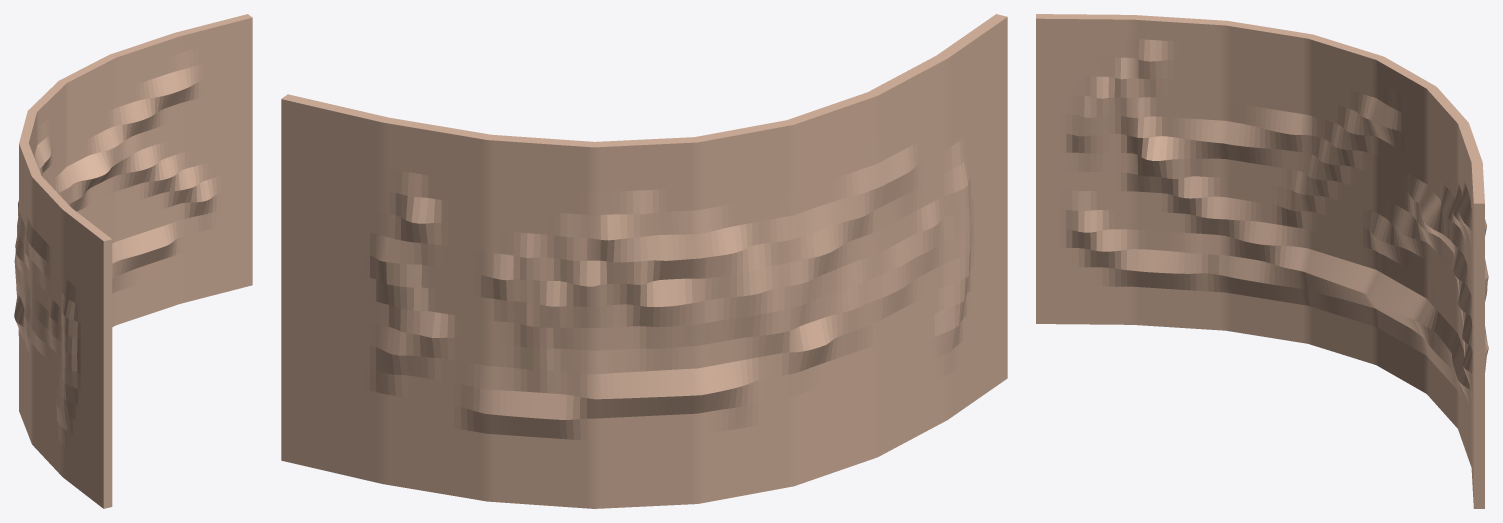
File: structure_wallcurved.fbx
3 renders of one model, left to right at view 1: azimuth 30°, elevation 25°; view 2: azimuth 150°, elevation 25°; view 3: azimuth 270°, elevation 25°, orthographic. The views are drawn at different scales.
Parts seen in each view (by area): view 1: wallcurved_wall_LOD0; view 2: wallcurved_wall_LOD0; view 3: wallcurved_wall_LOD0.
Part boxes in pixels (left/top/right/bottom): wallcurved_wall_LOD0: left=14, top=14, right=252, bottom=508; wallcurved_wall_LOD0: left=281, top=14, right=1007, bottom=508; wallcurved_wall_LOD0: left=1036, top=14, right=1488, bottom=508.
Size of what is drawn, in the model's own units: 405 by 300 by 404.
